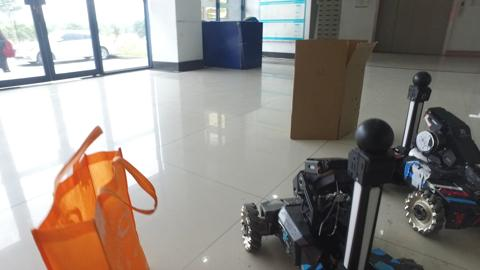box: (292, 36, 358, 142)
chariot: (239, 116, 425, 269), (391, 68, 479, 235)
